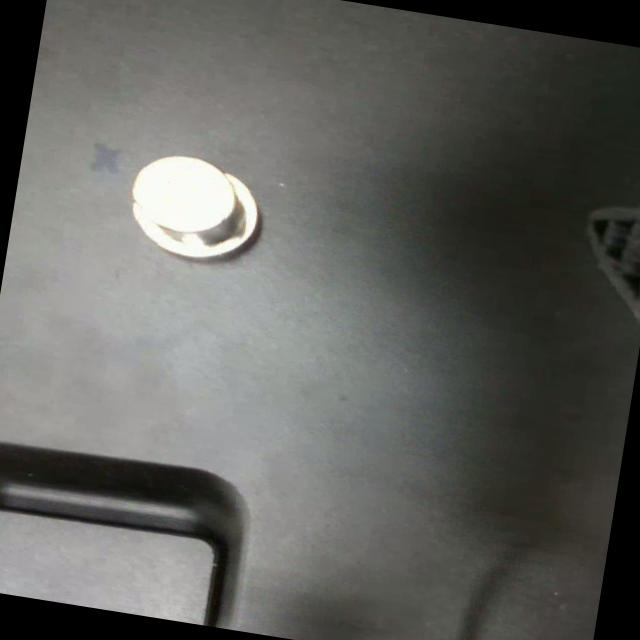sensor: (116, 144, 272, 273)
